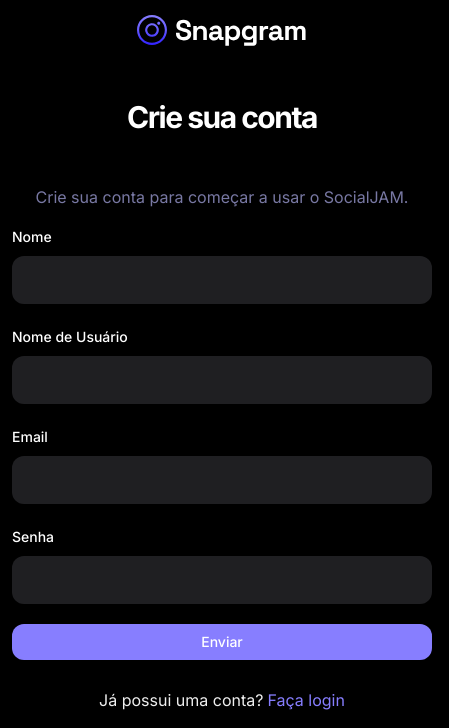
Test: SignupForms › deve mostrar mensagens de erro para campos obrigatórios
// Clica no botão enviar sem preencher nada
Step 1. Click the button "Enviar" → (222,642), box [12,624,432,660]
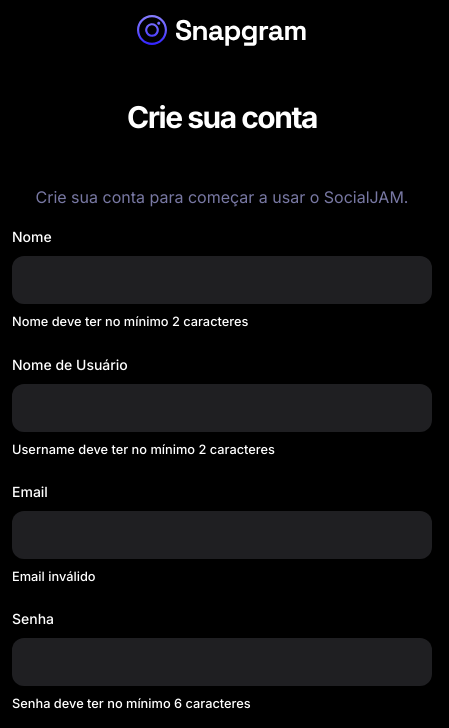
Now the text "Nome deve ter no mínimo 2 caracteres" is shown, box [12,314,248,329]
Now the text "Username deve ter no mínimo 2 caracteres" is shown, box [12,442,275,457]
Now the text "Email inválido" is shown, box [12,569,96,584]
